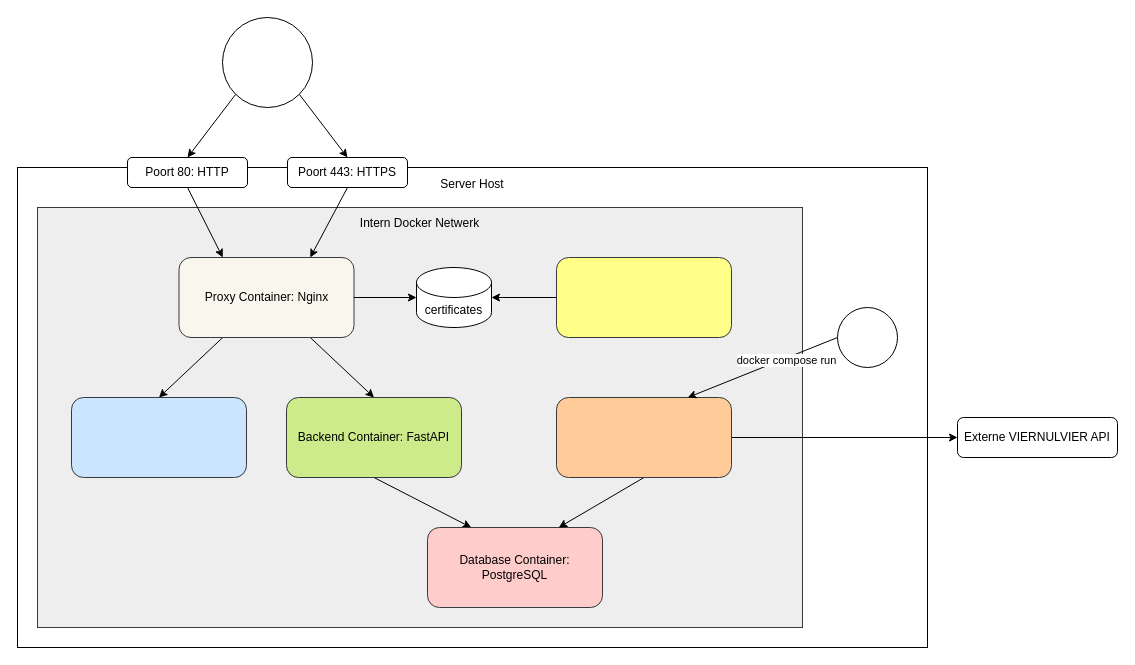
Image size: 1135x665. Some labels were removed from this diagram. The centre of each missing label's shape, as x and y in pixels:
Browser: the point at 267,62
Certbot Container: Certbot: the point at 644,297
Cron Job: the point at 867,337
Frontend Container: Node: the point at 158,437
Sync Container: Python: the point at 644,437
